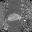people: (7, 13, 21, 21)
